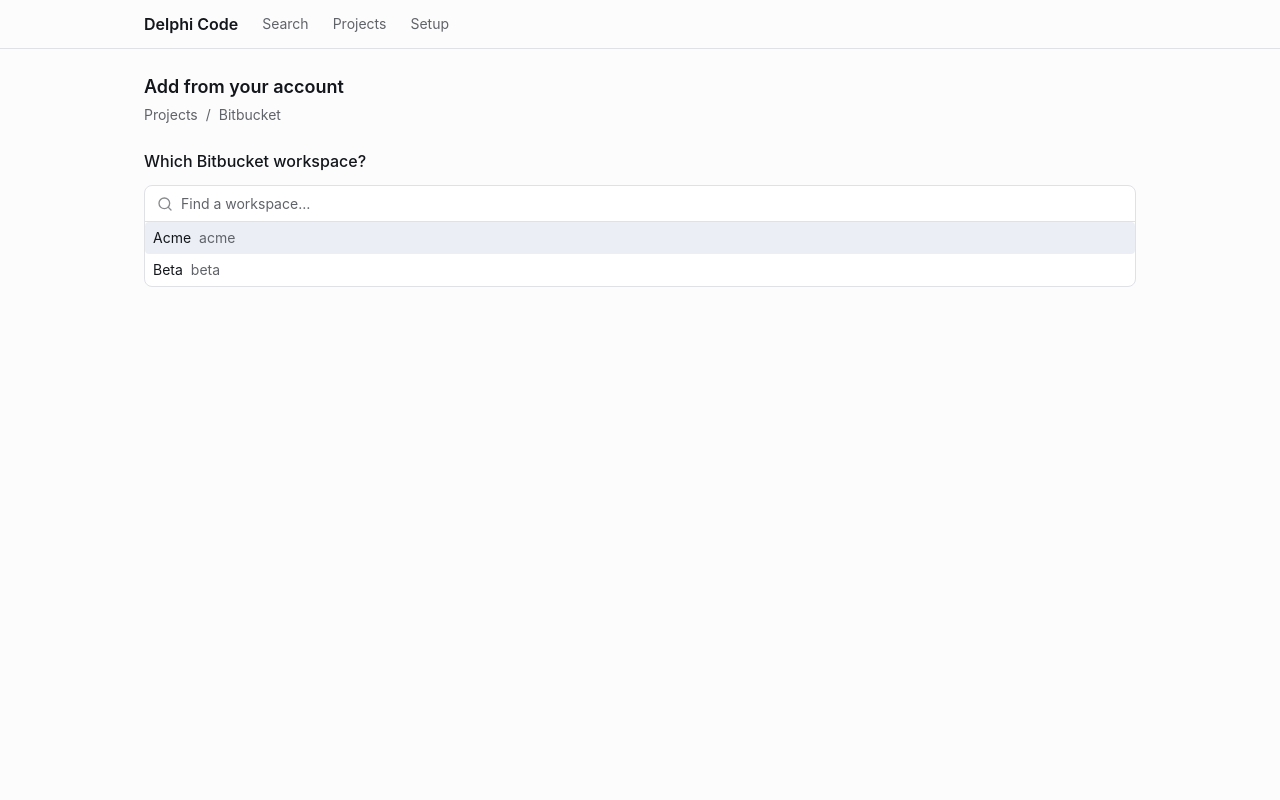
Test: the repository picker › skips the only account, then tracks and stops tracking what changed
What coordinates should you click on to do the following:
click the option "Acme acme"
I would click on:
 (172, 238)
Its box is [145,222,1135,254].
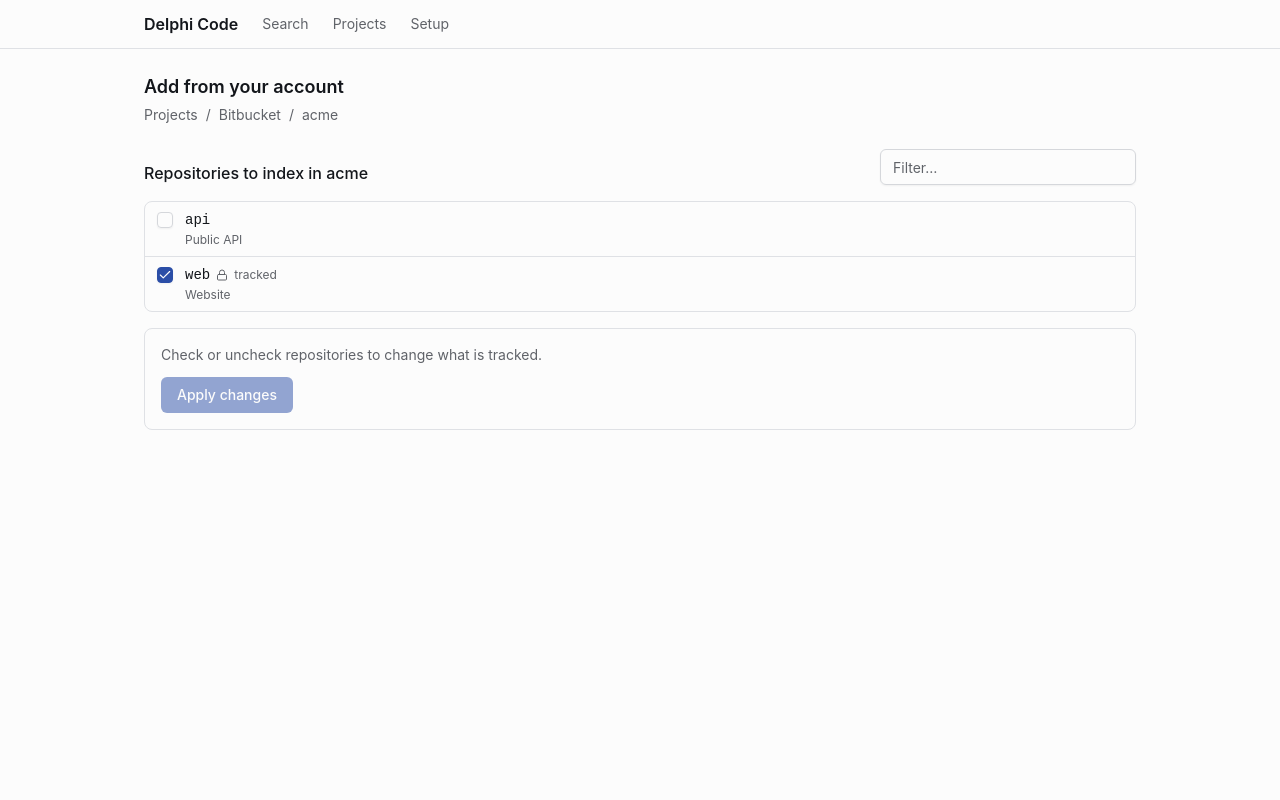
What coordinates should you click on to do the following:
click the 2nd checkbox named "web"
I would click on:
 (165, 275)
Its box is [157,267,173,283].
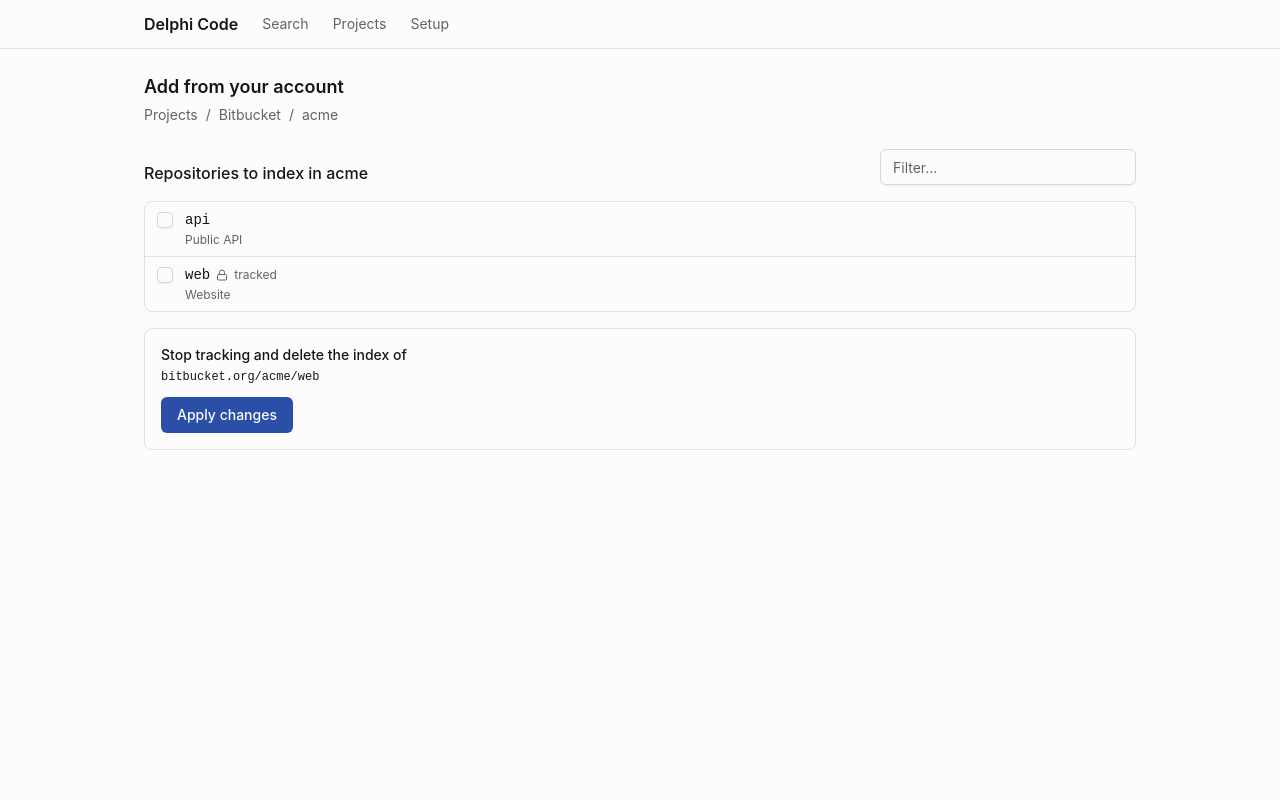
What coordinates should you click on to do the following:
click the 1st checkbox named "api"
I would click on:
 (165, 220)
Its box is [157,212,173,228].
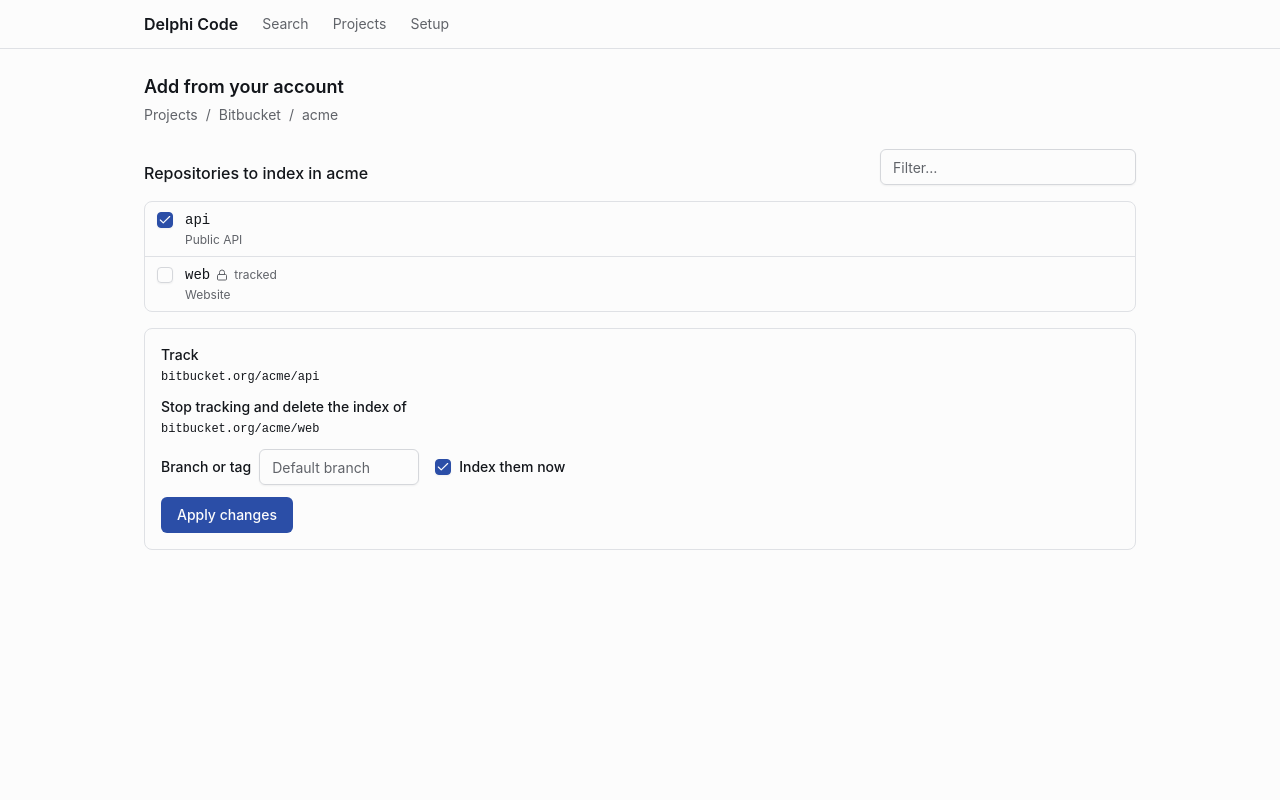
What coordinates should you click on to do the following:
click the checkbox named "Index them now" next to "Index them now"
I would click on:
 (443, 467)
Its box is [435,459,451,475].
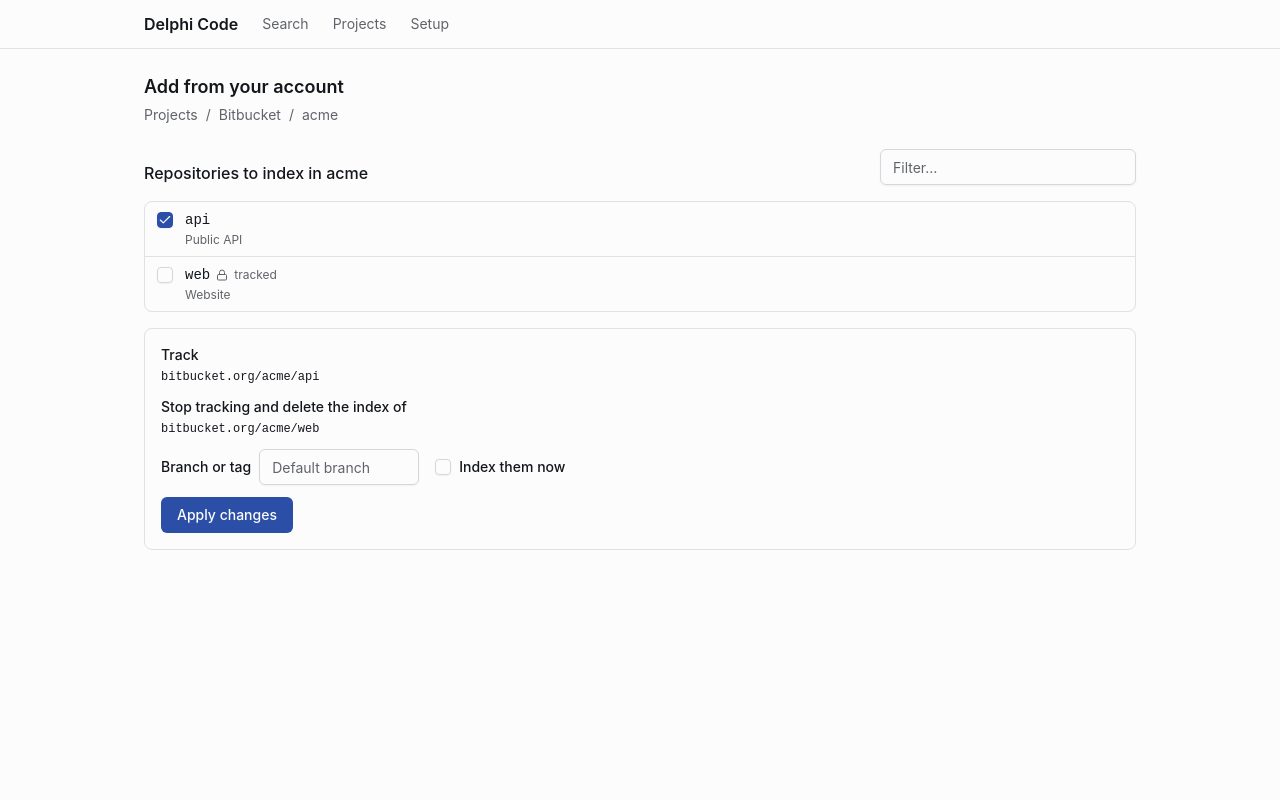
What coordinates should you click on to do the following:
click the button "Apply changes"
I would click on:
 (227, 515)
Its box is [161,497,293,533].
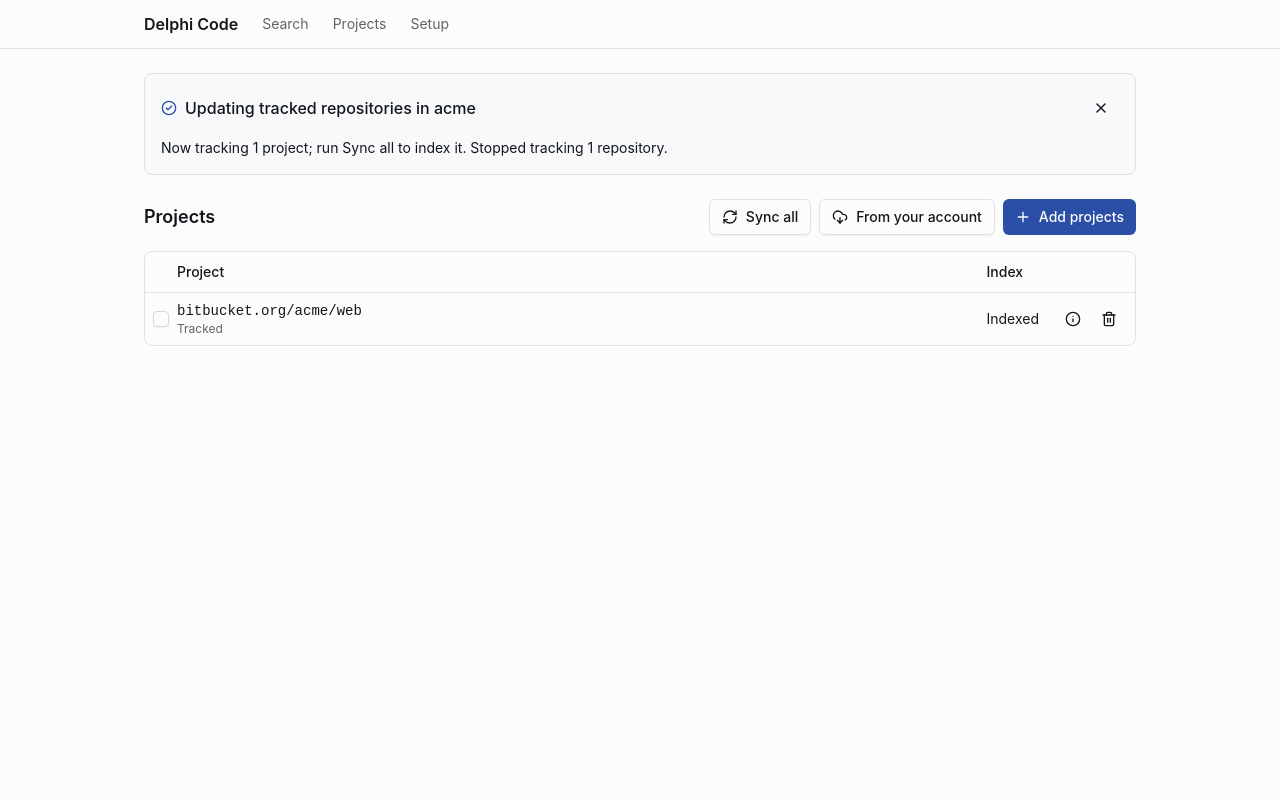
Expected: the text "Now tracking 1 project; run Sync all to index it. Stopped tracking 1 repository." is shown, [161,139,668,156]
